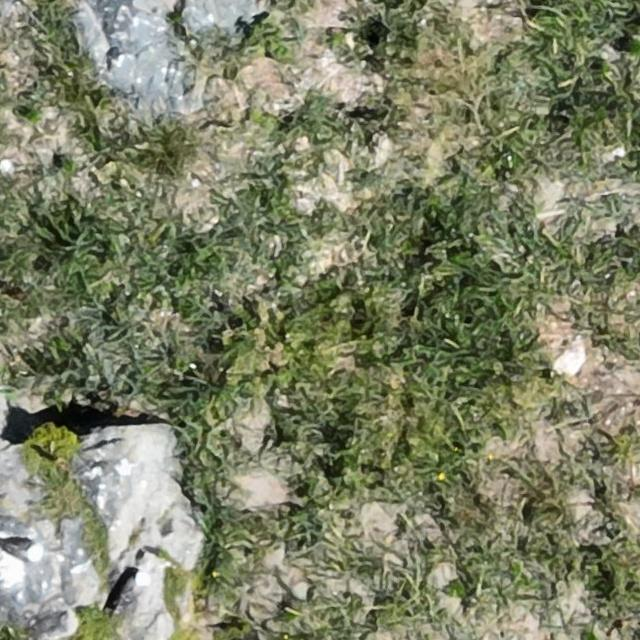umineko: (120, 570, 150, 610), (2, 539, 38, 558)
